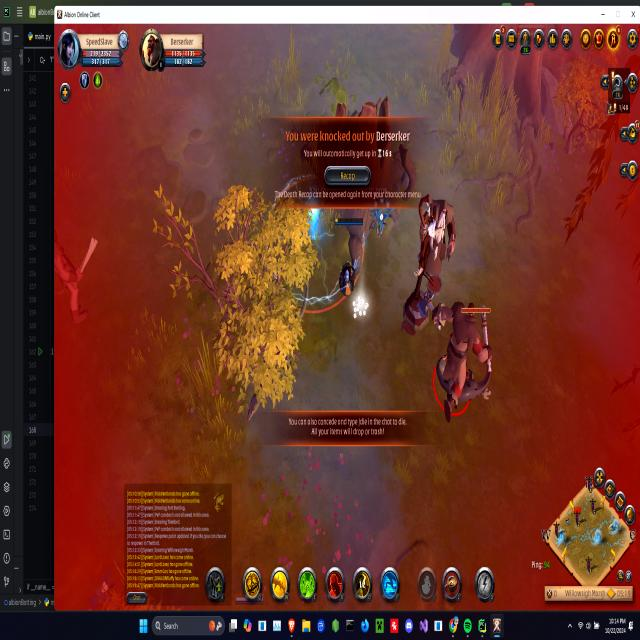hide: (369, 196, 394, 236)
ore: (429, 298, 493, 422), (410, 188, 466, 300), (53, 222, 100, 329)
red: (330, 214, 367, 306)
silver: (267, 175, 367, 316)
stone: (349, 288, 371, 324)
